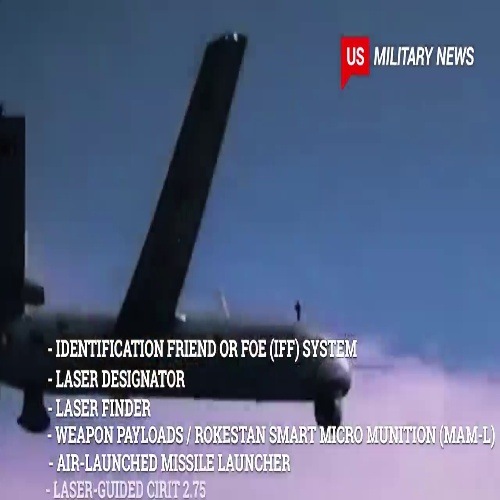uav588: (2, 28, 354, 432)
